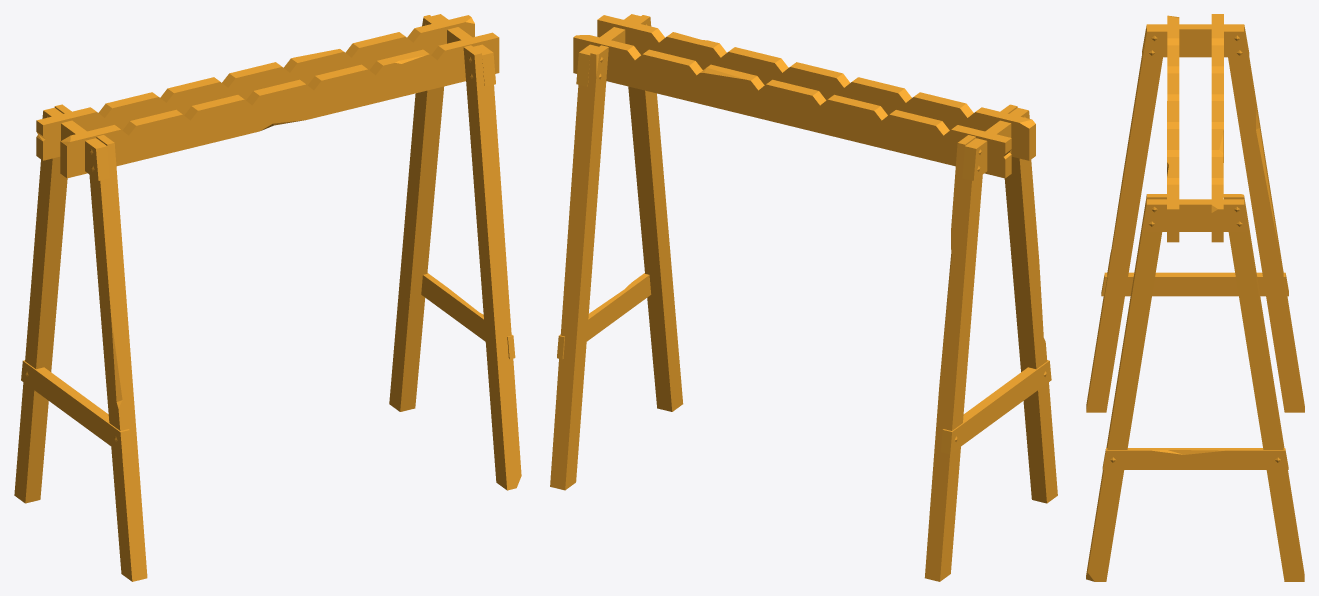
Rendered from SM_Rack_Weapon_Medium.fbx.
The picture shows the model from 3 angles, left to right: view 1: azimuth 30°, elevation 25°; view 2: azimuth 150°, elevation 25°; view 3: azimuth 270°, elevation 25°; orthographic projection. The views are drawn at different scales.
Visible parts, largest first — view 1: rack-weapon-medium; view 2: rack-weapon-medium; view 3: rack-weapon-medium.
Part boxes in pixels (<box>): rack-weapon-medium: <box>14,14,521,581</box>; rack-weapon-medium: <box>550,14,1057,581</box>; rack-weapon-medium: <box>1086,14,1304,581</box>.
Size of the model in its own units: 1.14 by 1.04 by 0.5402.
